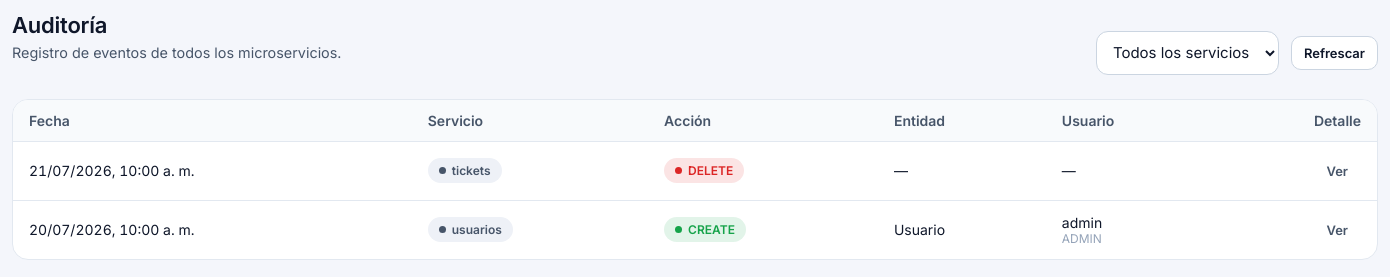
AuditoriaPage › filtra por servicio
Check: the text "CREATE" is shown, box [664,217,746,242]
Select "tickets" in the dropdown named "Filtrar por servicio" at [1187, 53], box [1096,31,1279,75]
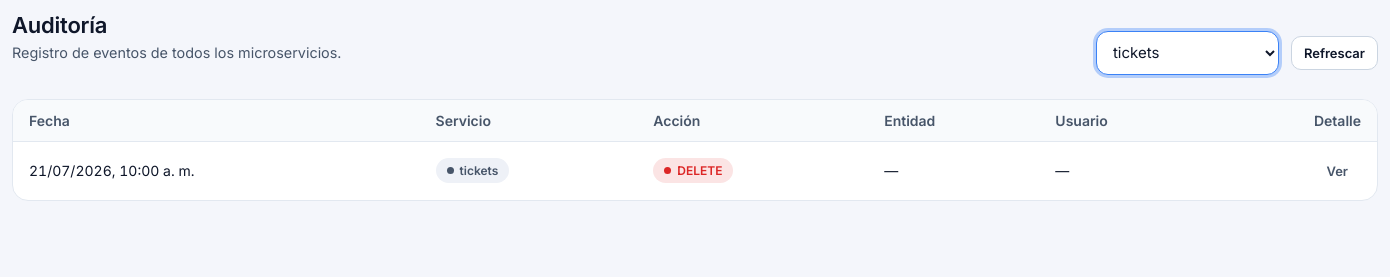
Check: the text "DELETE" is shown, box [653,158,734,184]
Check: the text "CREATE" is gone
